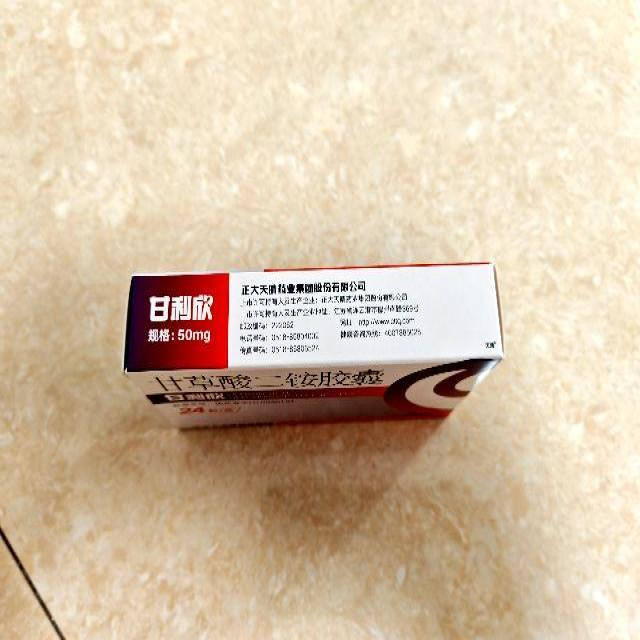box: (126, 260, 504, 430)
